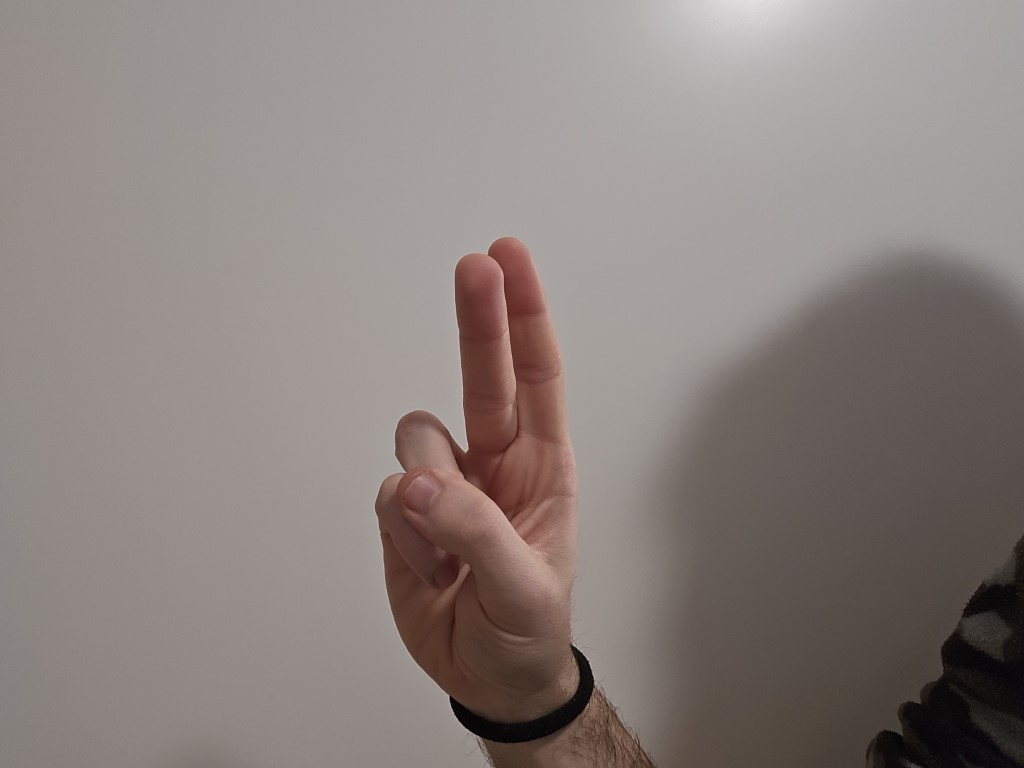r: (363, 225, 605, 696)
